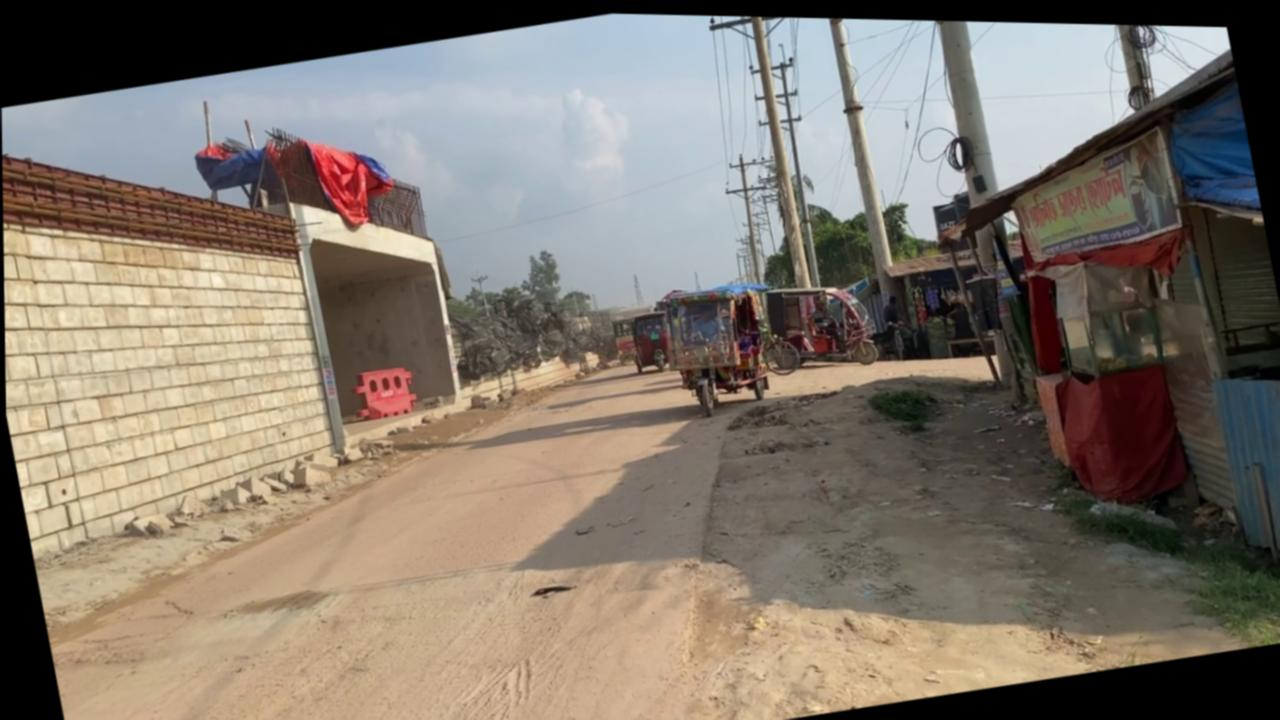Construction-barrier: (353, 357, 428, 426)
Obstacle: (908, 36, 1280, 637)
Pole: (818, 14, 908, 326), (922, 16, 1021, 293), (739, 13, 814, 286), (1098, 19, 1153, 104)
Rickshaw: (669, 315, 1245, 720)
Traffic-sign: (749, 178, 936, 296), (512, 244, 563, 307)
Tree: (651, 271, 781, 419), (749, 268, 880, 378)
Upstairs: (2, 160, 346, 561)
